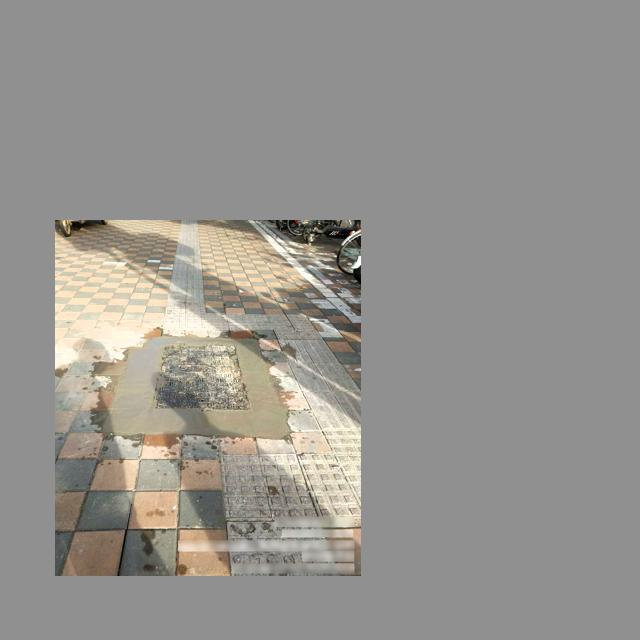good: (148, 343, 253, 410)
